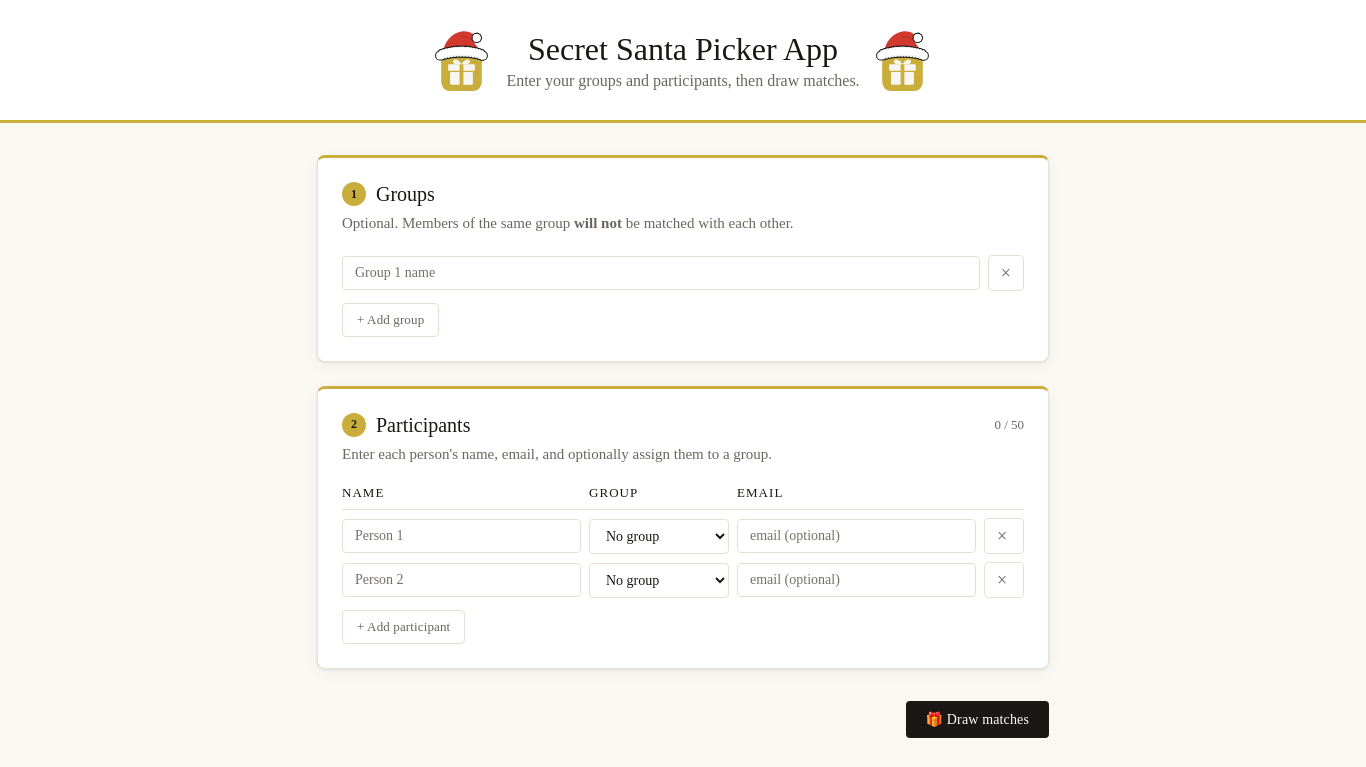
Scenario: home form › names each row that needs fixing
This screenshot has width=1366, height=767.
Step 1. Type "ann@example" into the field named "Person 1 email" → (856, 536), box [737,519,976,553]
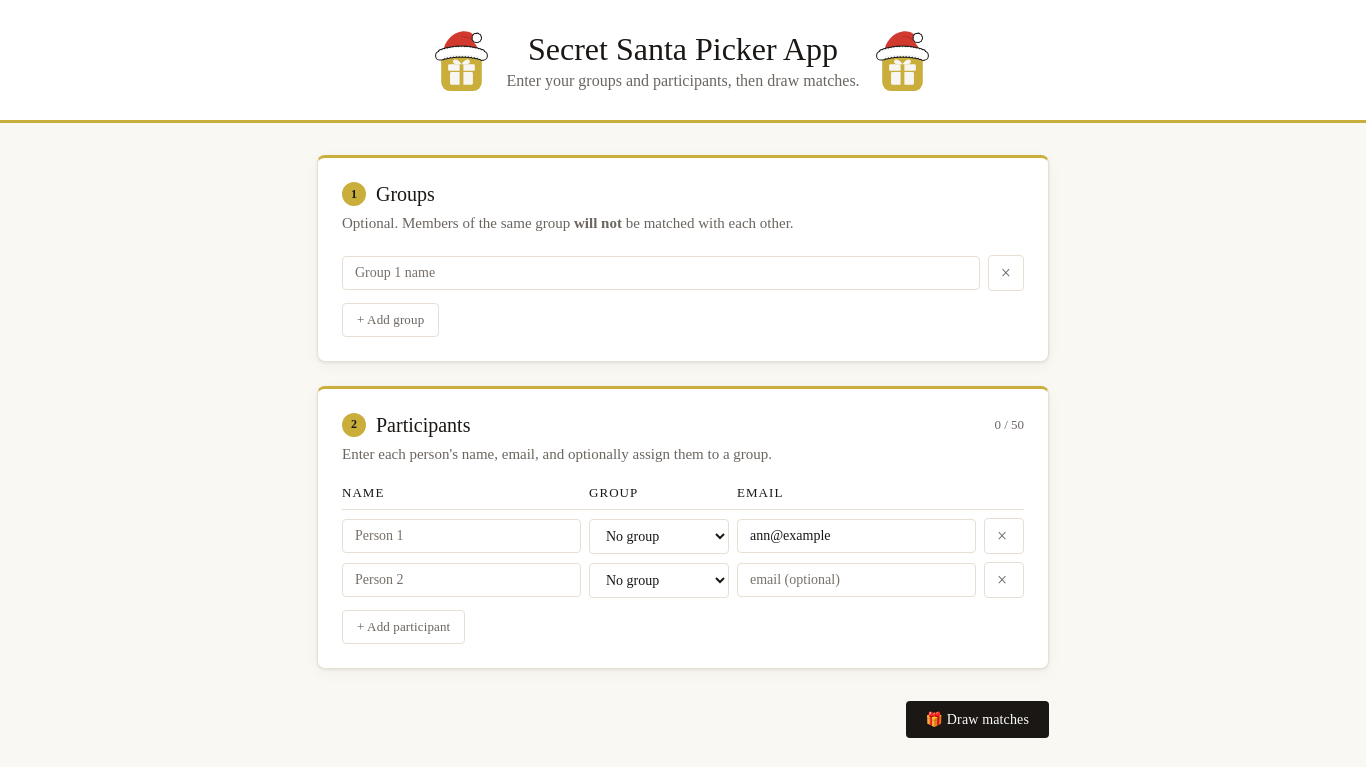
Step 2. Type "bob@example.com" into the field named "Person 2 email" → (856, 580), box [737,563,976,597]
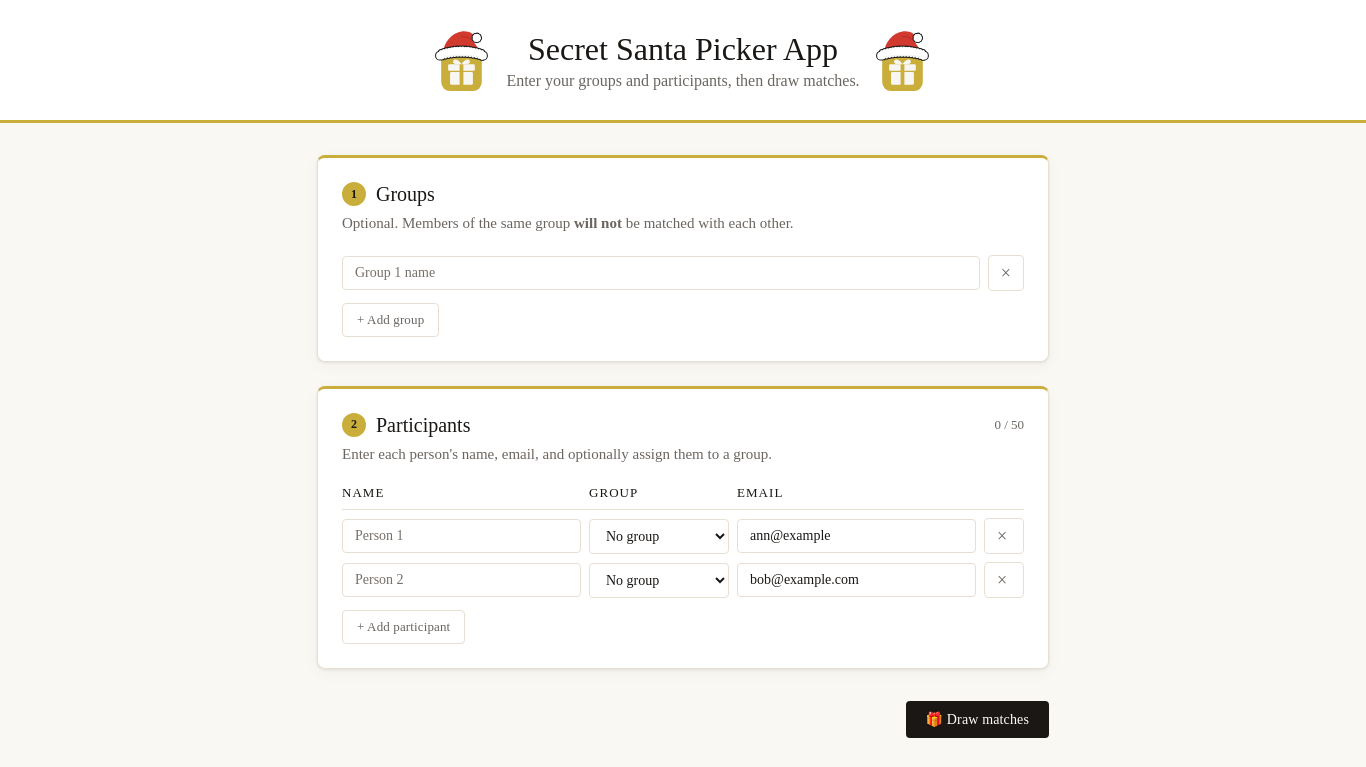
Step 3. Click the button "🎁 Draw matches" → (977, 720), box [906,701,1049,738]
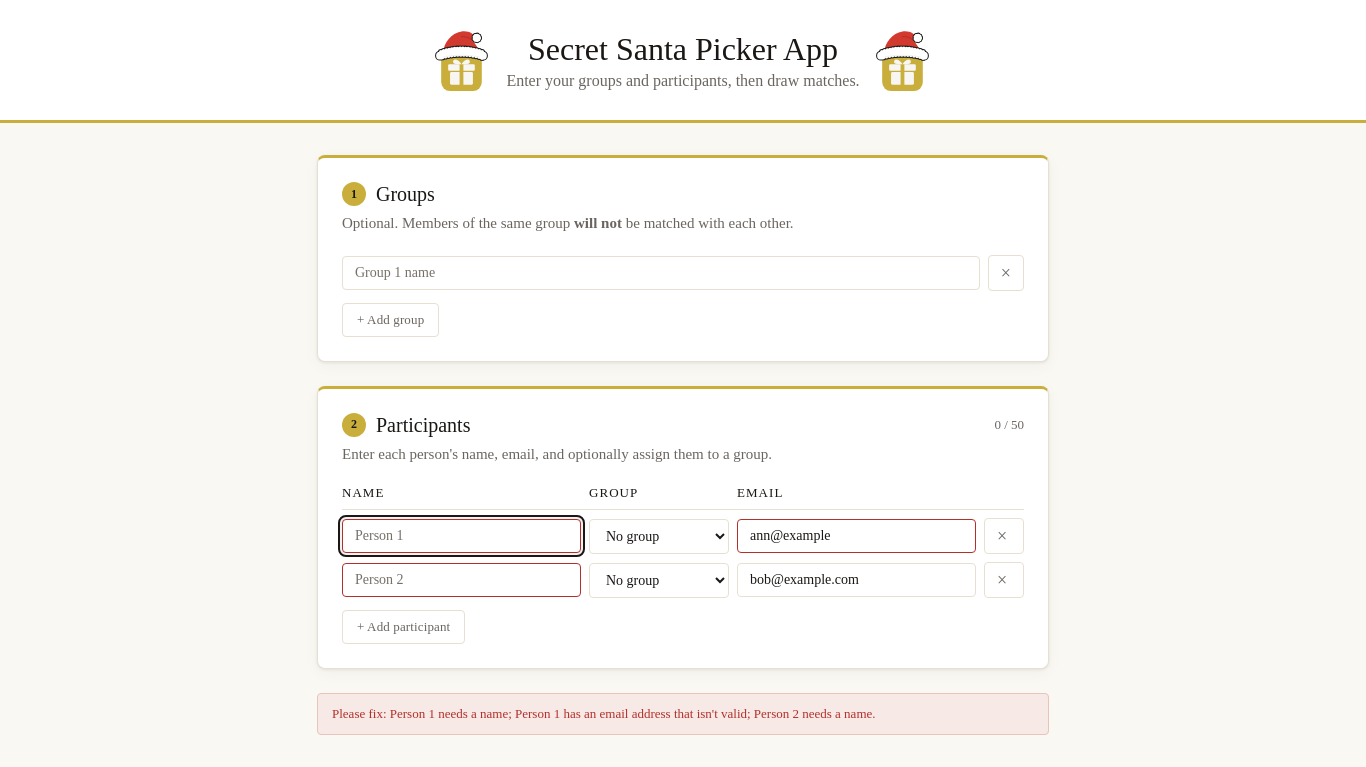
Check: the text "Please fix: Person 1 needs a name; Person 1 has an email address that isn't valid; Person 2 needs a name." is shown, box [332,706,876,721]
